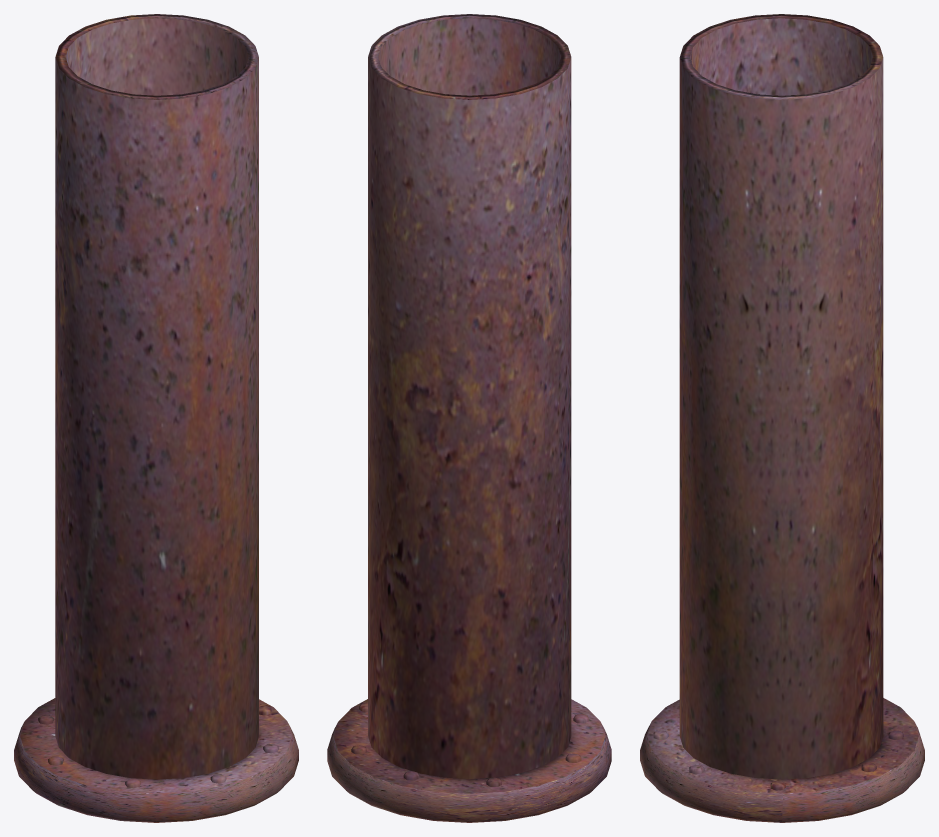
The model's file is pipes.fbx.
The picture shows the model from 3 angles, left to right: view 1: azimuth 30°, elevation 25°; view 2: azimuth 150°, elevation 25°; view 3: azimuth 270°, elevation 25°; orthographic projection.
Visible parts, largest first — view 1: Pipe, bolts; view 2: Pipe, bolts; view 3: Pipe, bolts.
Boxes of the visible parts, x1,y1,x2,y2 form: Pipe: [55, 14, 258, 779]; bolts: [14, 698, 298, 822]; Pipe: [368, 14, 571, 778]; bolts: [327, 699, 611, 822]; Pipe: [679, 14, 883, 779]; bolts: [640, 698, 924, 822].
Size of the model in its own units: 0.3243 by 0.8893 by 0.3243.
